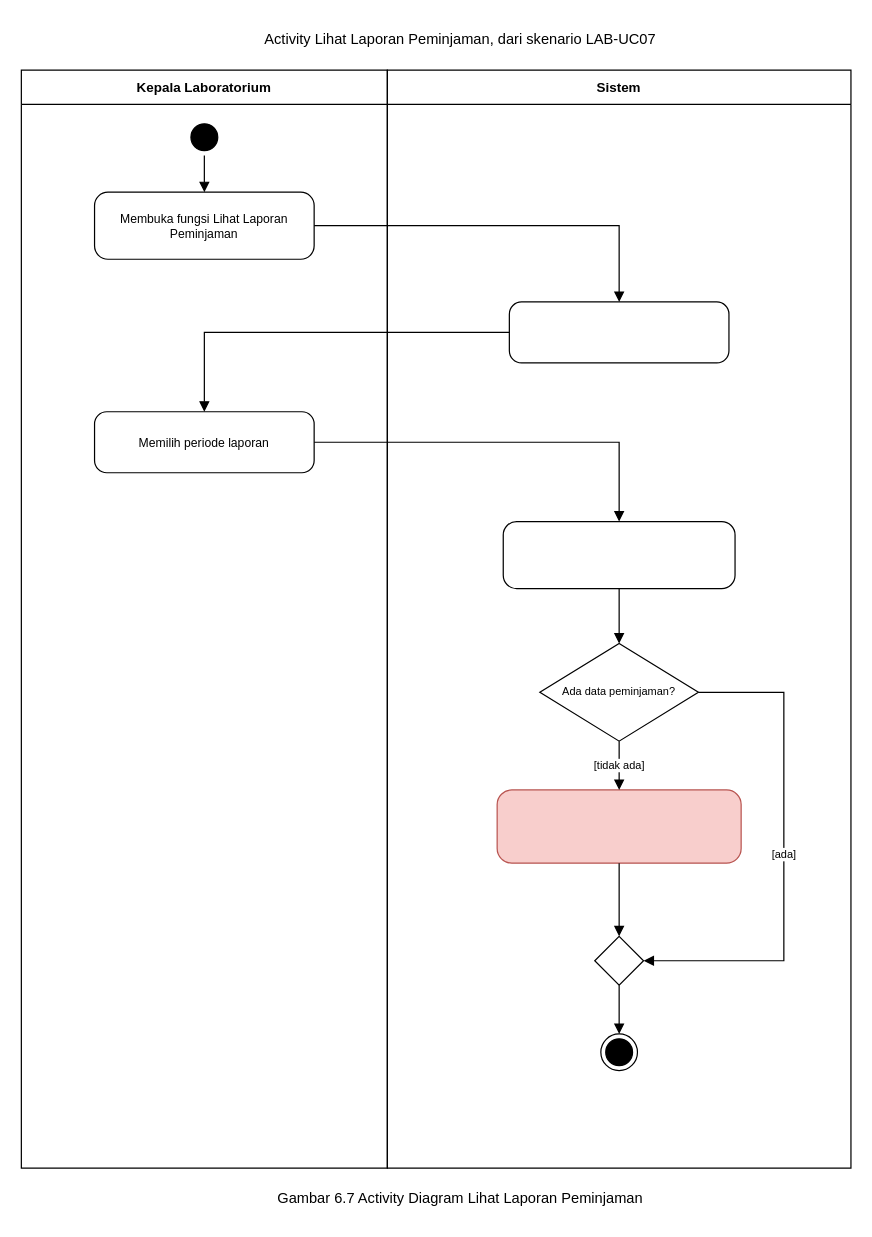
This 872x1237 diagram has some shape labels left out. Here are the shapes that lost their labels. From the top down, the centre of each, then its label:
the point at 618,332: Menampilkan daftar periode laporan
the point at 618,554: Menampilkan laporan peminjaman periode yang dipilih
the point at 618,826: Menampilkan pesan tidak ada data peminjaman pada periode tersebut
